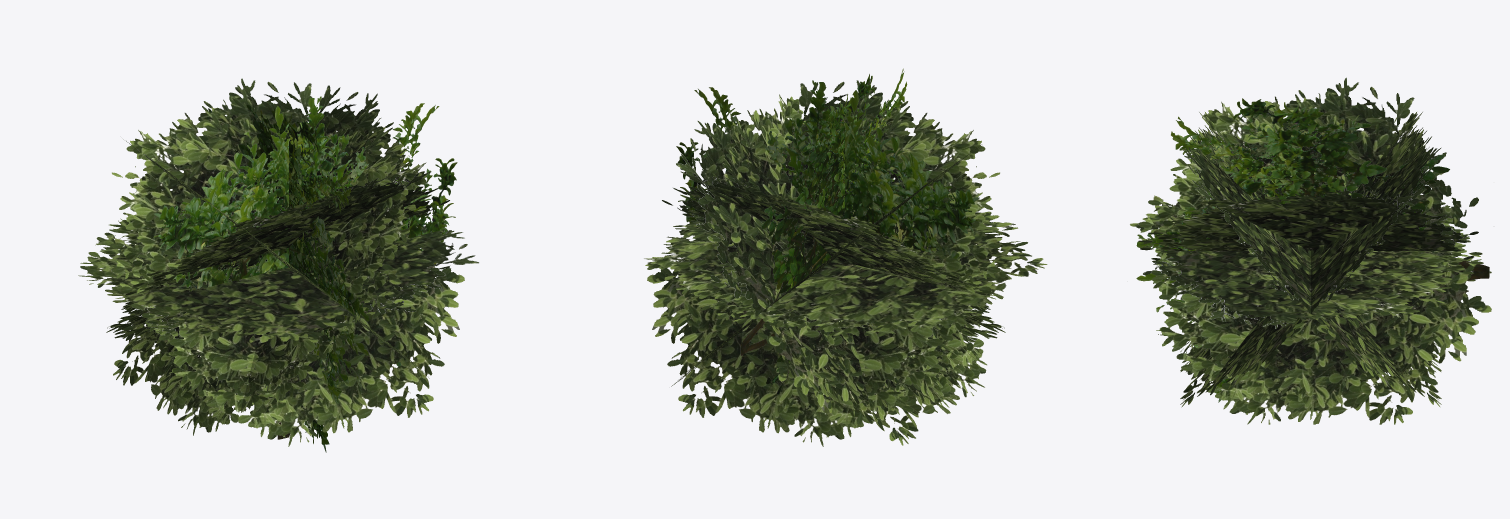
File: SM_Bush_Small.fbx
The picture shows the model from 3 angles, left to right: view 1: azimuth 30°, elevation 25°; view 2: azimuth 150°, elevation 25°; view 3: azimuth 270°, elevation 25°; orthographic projection. The views are drawn at different scales.
Parts seen in each view (by area): view 1: pPlane2; view 2: pPlane2; view 3: pPlane2.
Boxes of the visible parts, x1,y1,x2,y2 form: pPlane2: (78, 78, 479, 452); pPlane2: (644, 68, 1047, 446); pPlane2: (1127, 77, 1491, 424).
Size of the model in its own units: 14.25 by 13.63 by 13.59.
